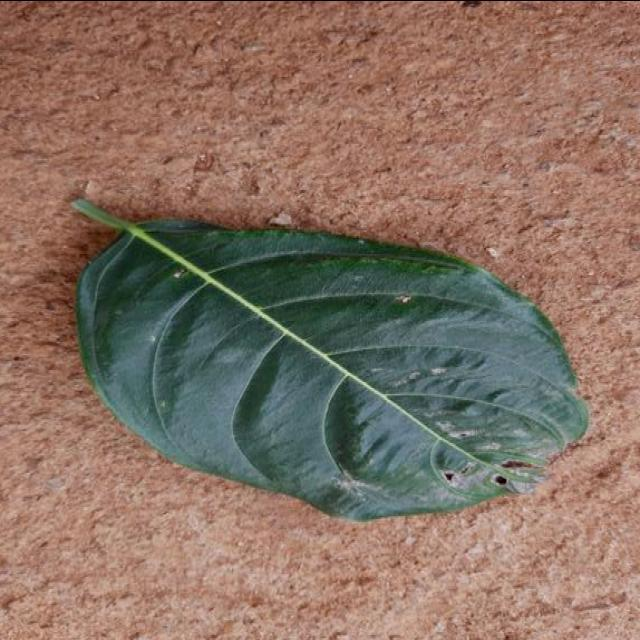leaf: (70, 196, 589, 522)
